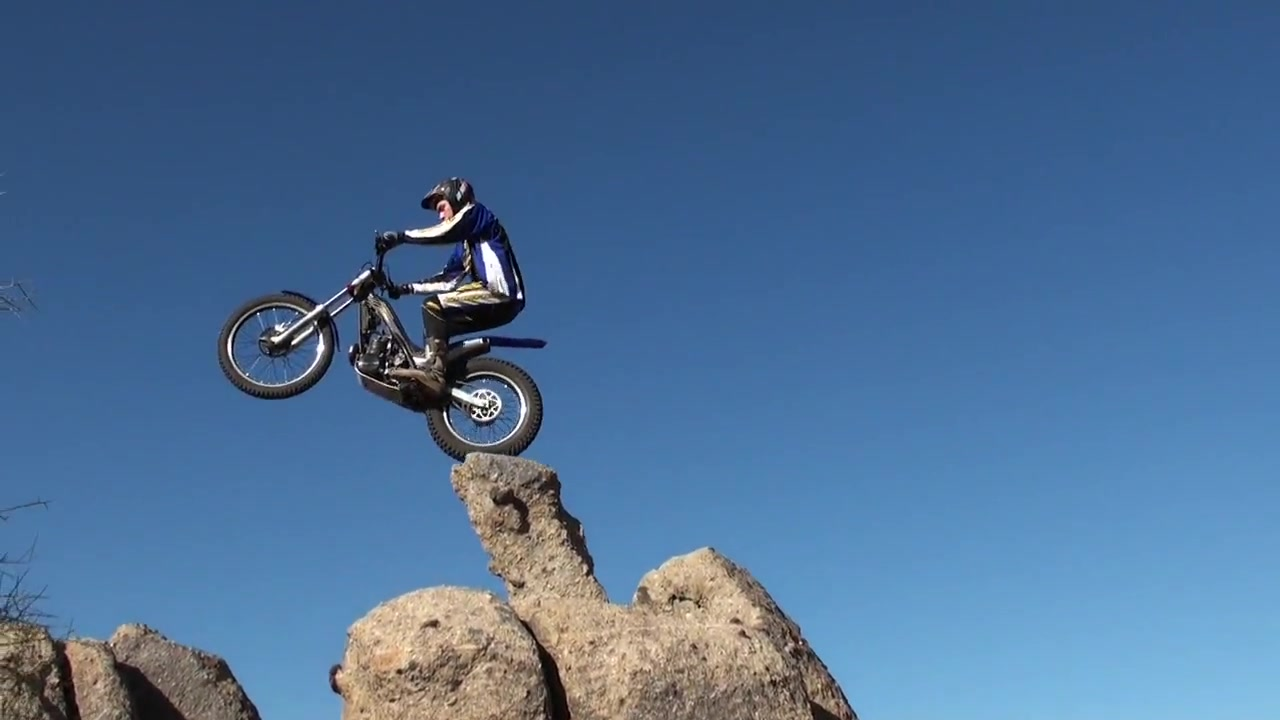motorbike: (214, 227, 548, 461)
